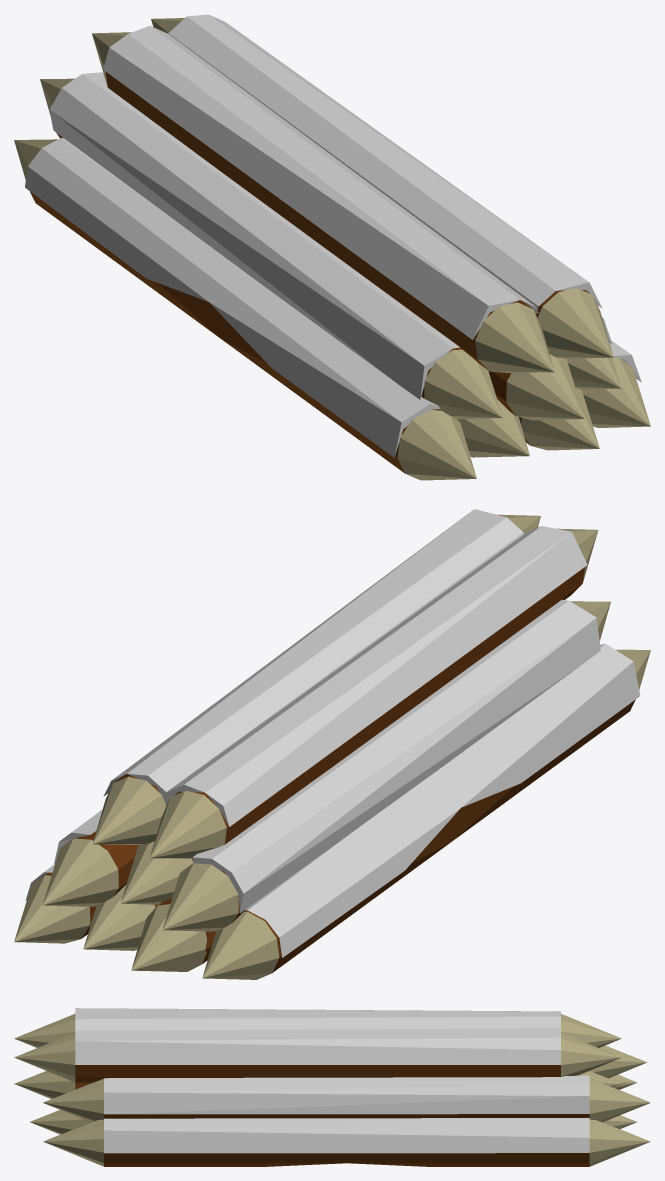
The model's file is Wood.fbx.
3 renders of one model, top to bottom at view 1: azimuth 30°, elevation 25°; view 2: azimuth 150°, elevation 25°; view 3: azimuth 270°, elevation 25°, orthographic. The views are drawn at different scales.
Visible parts, largest first — view 1: Snow, Wood; view 2: Snow, Wood; view 3: Snow, Wood.
Part boxes in pixels (bbox=[...]): Snow: bbox=[25, 14, 641, 457]; Wood: bbox=[14, 18, 650, 480]; Snow: bbox=[25, 509, 640, 957]; Wood: bbox=[14, 514, 650, 979]; Snow: bbox=[75, 1008, 589, 1153]; Wood: bbox=[14, 1014, 650, 1166].
Bounding box in the file's own units: 226 × 143 × 727.
